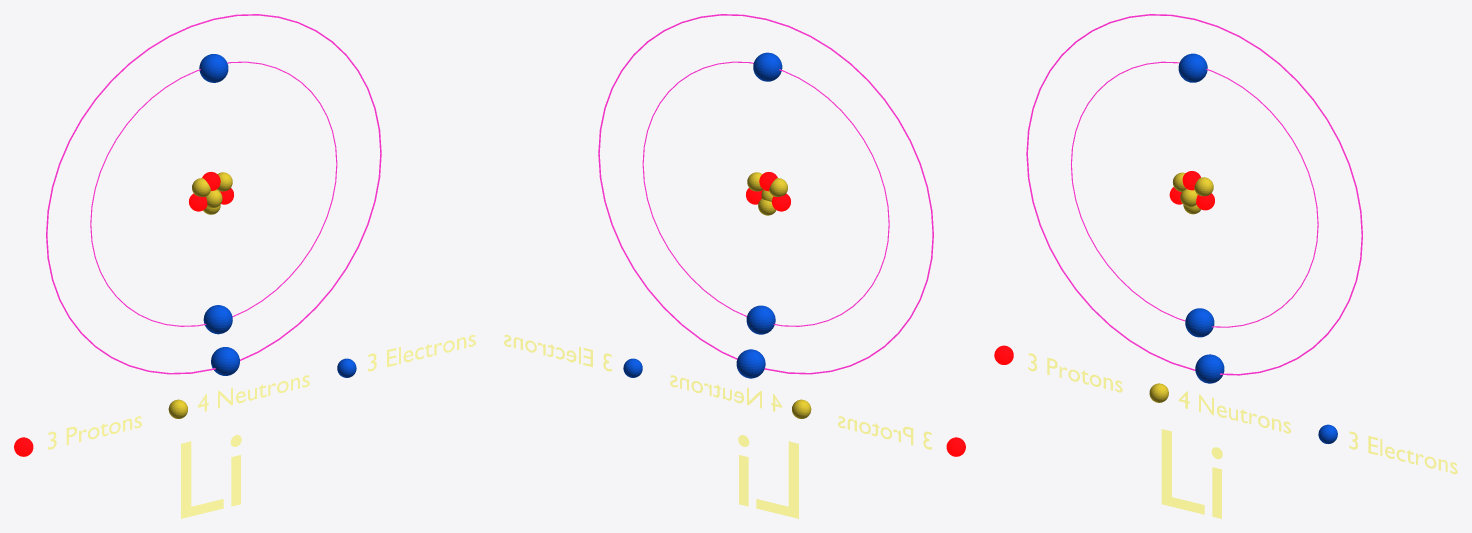
Rendered from lithium.glb.
3 views of the same model, side by side, from view 1: azimuth 30°, elevation 25°; view 2: azimuth 150°, elevation 25°; view 3: azimuth 330°, elevation 25° (orthographic).
Parts seen in each view (by area): view 1: BézierCircle.001, Text, BézierCircle, Text.003, Sphere.002, Sphere.001, Sphere.009, Text.002, Text.001; view 2: BézierCircle.001, Text, BézierCircle, Text.003, Sphere.001, Sphere.002, Sphere.009, Text.002, Text.001; view 3: BézierCircle.001, Text, BézierCircle, Text.003, Sphere.001, Sphere.002, Sphere.009, Text.002, Text.001.
Boxes of the visible parts, x1,y1,x2,y2 form: BézierCircle.001: (46,14,381,374); Text: (181,435,241,518); BézierCircle: (90,61,337,326); Text.003: (368,334,475,371); Sphere.002: (199,54,228,82); Sphere.001: (203,305,232,334); Sphere.009: (211,347,239,375); Text.002: (197,375,309,411); Text.001: (48,416,141,449); BézierCircle.001: (598,14,933,374); Text: (738,435,798,518); BézierCircle: (642,61,889,326); Text.003: (504,334,611,371); Sphere.001: (746,305,775,334); Sphere.002: (753,52,782,81); Sphere.009: (736,349,765,378); Text.002: (670,375,782,411); Text.001: (838,416,931,449); BézierCircle.001: (1026,14,1362,375); Text: (1161,429,1222,518); BézierCircle: (1070,61,1318,327); Text.003: (1349,431,1457,474); Sphere.001: (1185,308,1214,337); Sphere.002: (1178,53,1207,82); Sphere.009: (1195,354,1224,383); Text.002: (1178,391,1290,433); Text.001: (1028,353,1122,392).
Size of the model in its own units: 4.37 by 4.47 by 0.2815.
